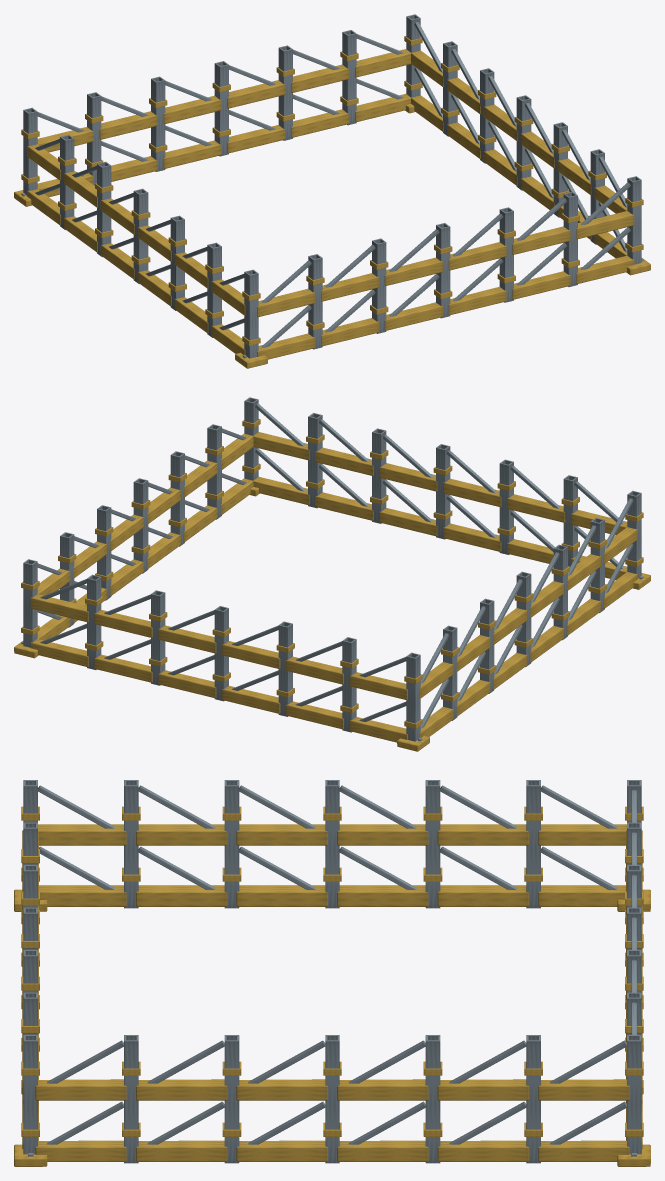
3 views of the same model, one above another, from view 1: azimuth 30°, elevation 25°; view 2: azimuth 150°, elevation 25°; view 3: azimuth 270°, elevation 25° (orthographic). The views are drawn at different scales.
Visible parts, largest first — view 1: Tier 0 side 0 post 0, Tier 0 side 2 post 2, Tier 0 side 2 post 3, Tier 0 side 2 post 4, Tier 0 side 2 post 1, Tier 0 side 0 post 4, Tier 0 side 0 post 3, Tier 0 side 0 post 5, Tier 0 side 0 post 1, Tier 0 side 0 post 2, Tier 0 side 3 post 3, Tier 0 side 1 post 0 (+56 smaller); view 2: Tier 0 side 3 post 0, Tier 0 side 2 post 2, Tier 0 side 2 post 1, Tier 0 side 2 post 5, Tier 0 side 2 post 3, Tier 0 side 2 post 4, Tier 0 side 2 post 0, Tier 0 side 0 post 5, Tier 0 side 0 post 4, Tier 0 side 0 post 3, Tier 0 side 0 post 2, Tier 0 side 1 post 3 (+58 smaller); view 3: Tier 0 bay 3-1-3 service deck, Tier 0 bay 3-1-1 service deck, Tier 0 bay 3-1-2 service deck, Tier 0 bay 3-1-4 service deck, Tier 0 bay 3-0-1 service deck, Tier 0 bay 3-0-3 service deck, Tier 0 bay 3-0-4 service deck, Tier 0 bay 1-1-1 service deck, Tier 0 bay 1-1-2 service deck, Tier 0 bay 1-1-4 service deck, Tier 0 bay 3-0-2 service deck, Tier 0 bay 1-1-3 service deck (+51 smaller).
Boxes of the visible parts, x1,y1,x2,y2 form: Tier 0 side 0 post 0: (244,269,258,358); Tier 0 side 2 post 2: (278,45,292,140); Tier 0 side 2 post 3: (214,61,228,156); Tier 0 side 2 post 4: (151,76,165,171); Tier 0 side 2 post 1: (342,30,356,125); Tier 0 side 0 post 4: (499,207,513,302); Tier 0 side 0 post 3: (436,223,450,318); Tier 0 side 0 post 5: (563,191,577,286); Tier 0 side 0 post 1: (308,254,322,349); Tier 0 side 0 post 2: (372,238,386,333); Tier 0 side 3 post 3: (133,188,148,283); Tier 0 side 1 post 0: (627,176,641,264); Tier 0 side 3 post 0: (406,652,420,741); Tier 0 side 2 post 2: (151,590,165,685); Tier 0 side 2 post 1: (87,574,101,669); Tier 0 side 2 post 5: (342,637,356,732); Tier 0 side 2 post 3: (214,606,228,701); Tier 0 side 2 post 4: (278,621,292,716); Tier 0 side 2 post 0: (23,559,37,647); Tier 0 side 0 post 5: (308,413,322,508); Tier 0 side 0 post 4: (372,428,386,523); Tier 0 side 0 post 3: (436,444,450,539); Tier 0 side 0 post 2: (499,459,513,554); Tier 0 side 1 post 3: (133,478,148,573); Tier 0 bay 3-1-3 service deck: (236,824,327,845); Tier 0 bay 3-1-1 service deck: (437,824,528,845); Tier 0 bay 3-1-2 service deck: (337,824,428,845); Tier 0 bay 3-1-4 service deck: (136,824,227,845); Tier 0 bay 3-0-1 service deck: (437,885,528,906); Tier 0 bay 3-0-3 service deck: (236,885,327,906); Tier 0 bay 3-0-4 service deck: (136,885,227,906); Tier 0 bay 1-1-1 service deck: (136,1079,227,1100); Tier 0 bay 1-1-2 service deck: (236,1079,327,1100); Tier 0 bay 1-1-4 service deck: (437,1079,528,1100); Tier 0 bay 3-0-2 service deck: (337,885,428,906); Tier 0 bay 1-1-3 service deck: (337,1079,428,1100).
Bounding box in the file's own units: 2.85 × 0.6034 × 2.85.
2 materials, 2 textured.
